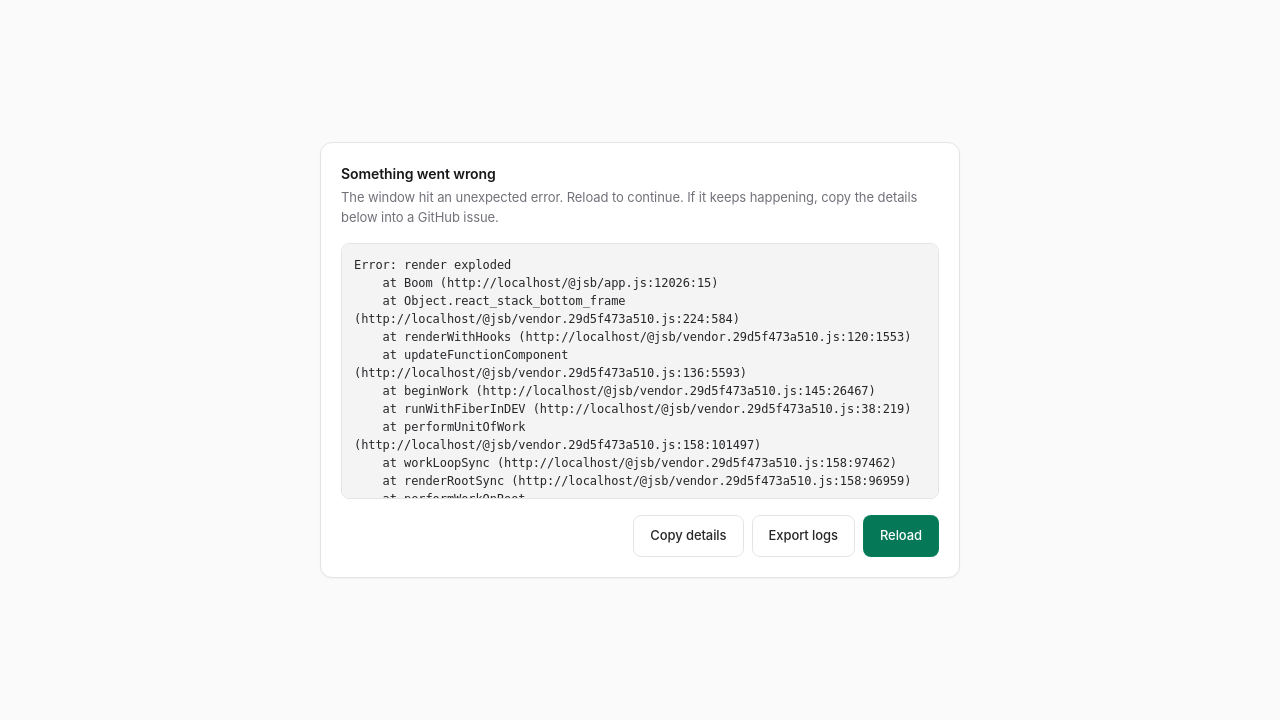
Scenario: ErrorBoundary › exports logs from the fallback page and shows where they went
Click the button "Export logs" at x=803, y=536, box [752,515,855,557]
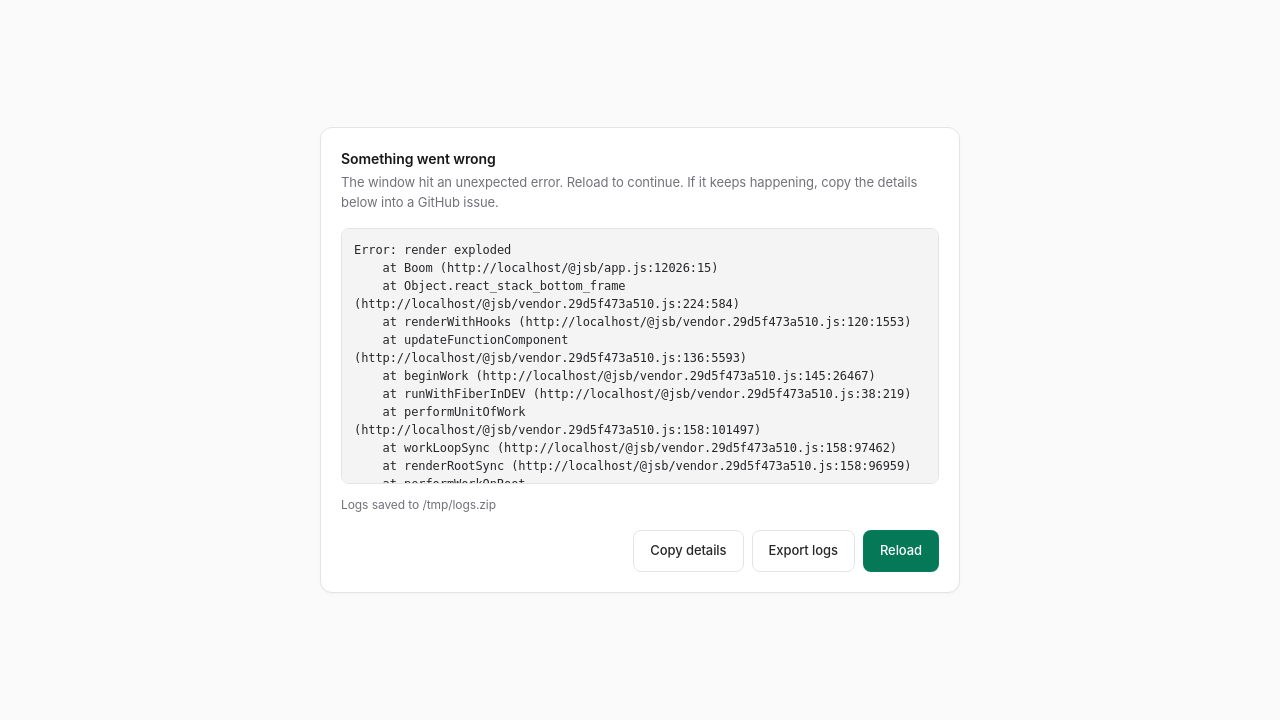
Expected: the text "Logs saved to /tmp/logs.zip" is shown, [341,497,496,512]
